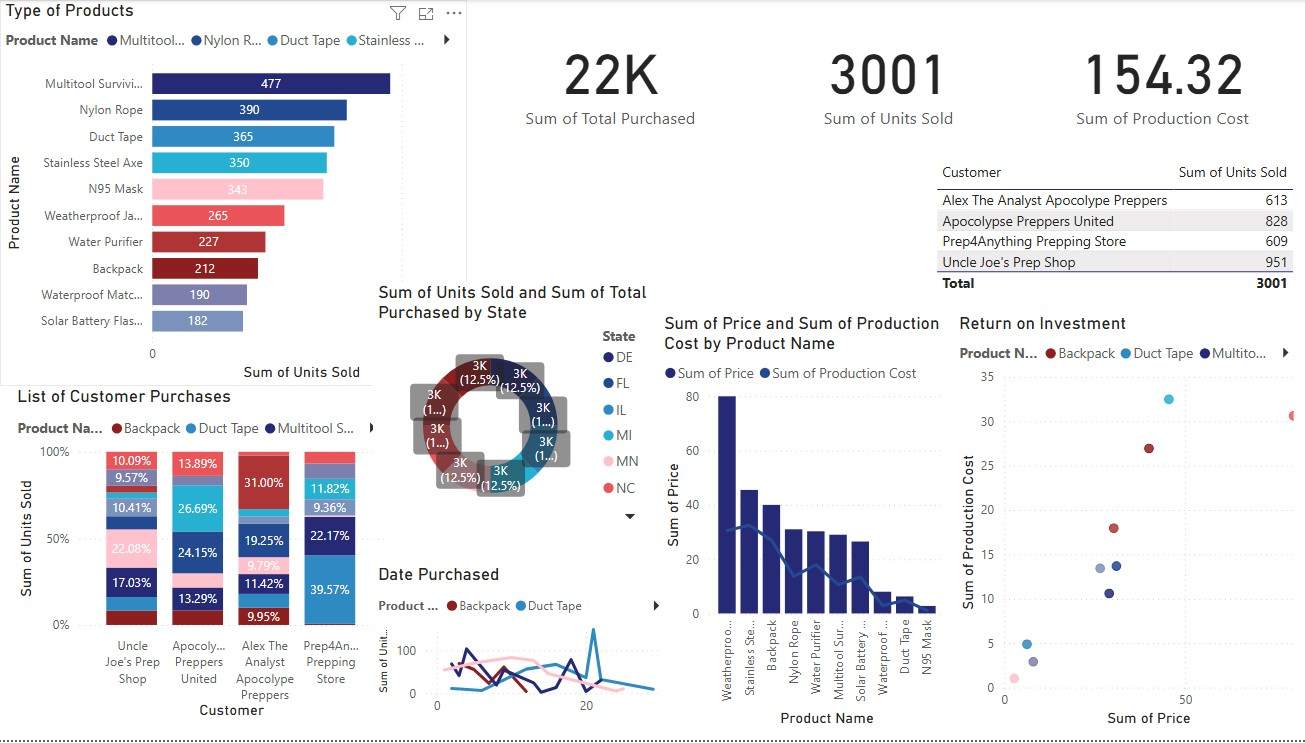

This screenshot's page, from the dashboard's own definition file:
{"tool":"powerbi","page":{"name":"Page 1","canvas":[1280,720],"ordinal":0},"visuals":[{"type":"barChart","title":"Type of Products","fields":{"Y":["Apocolypse Sales.Units Sold"],"Category":["Apocolypse Store.Product Name"],"Series":["Apocolypse Store.Product Name"]},"box":[9.7,0,454.2,375.4],"z":0},{"type":"hundredPercentStackedColumnChart","title":"List of Customer Purchases","fields":{"Category":["Customer Information.Customer"],"Y":["Apocolypse Sales.Units Sold"],"Series":["Apocolypse Store.Product Name"]},"box":[21.4,375.4,366.7,328.8],"z":1000},{"type":"lineChart","title":"Date Purchased","fields":{"Category":["Apocolypse Sales.Date Purchased.Variation.Date Hierarchy.Day"],"Y":["Apocolypse Sales.Units Sold"],"Series":["Apocolypse Store.Product Name"]},"box":[372.5,548.6,294.7,155.6],"z":2000},{"type":"lineStackedColumnComboChart","fields":{"Category":["Apocolypse Store.Product Name"],"Y":["Apocolypse Store.Price"],"Y2":["Apocolypse Store.Production Cost"]},"box":[650.7,304.4,283,407.5],"z":3000},{"type":"scatterChart","title":"Return on Investment","fields":{"X":["Apocolypse Store.Price"],"Category":["Apocolypse Store.Product Name"],"Y":["Apocolypse Store.Production Cost"],"Series":["Apocolypse Store.Product Name"]},"box":[937.6,304.4,342.4,407.5],"z":4000},{"type":"donutChart","fields":{"Category":["Customer Buyer Information.State"],"Y":["Apocolypse Sales.Units Sold"]},"box":[372.5,274.3,280.1,241.2],"z":5000},{"type":"card","fields":{"Values":["Apocolypse Store.Production Cost"]},"box":[1000.9,0,279.1,151.7],"z":6000},{"type":"card","fields":{"Values":["Apocolypse Sales.Units Sold"]},"box":[734.3,0,279.1,151.7],"z":7000},{"type":"card","fields":{"Values":["Customer Buyer Information.Total Purchased"]},"box":[464,0,279.1,151.7],"z":8000},{"type":"tableEx","fields":{"Values":["Customer Information.Customer","Apocolypse Sales.Units Sold"]},"box":[915.3,151.7,364.7,139.1],"z":9000}]}

Visuals, with their boxes in screenshot pixels (x1, y1, x2, y2), scaled from the page's 1280x720 canvas onto the 1305x743 screenshot:
"Type of Products" barChart: left=10, top=0, right=473, bottom=387
"List of Customer Purchases" hundredPercentStackedColumnChart: left=22, top=387, right=396, bottom=727
"Date Purchased" lineChart: left=380, top=566, right=680, bottom=727
lineStackedColumnComboChart - Apocolypse Store.Product Name x Apocolypse Store.Price: left=663, top=314, right=952, bottom=735
"Return on Investment" scatterChart: left=956, top=314, right=1304, bottom=735
donutChart - Customer Buyer Information.State x Apocolypse Sales.Units Sold: left=380, top=283, right=665, bottom=532
card - Apocolypse Store.Production Cost: left=1020, top=0, right=1304, bottom=157
card - Apocolypse Sales.Units Sold: left=749, top=0, right=1033, bottom=157
card - Customer Buyer Information.Total Purchased: left=473, top=0, right=758, bottom=157
tableEx - Customer Information.Customer x Apocolypse Sales.Units Sold: left=933, top=157, right=1304, bottom=300
